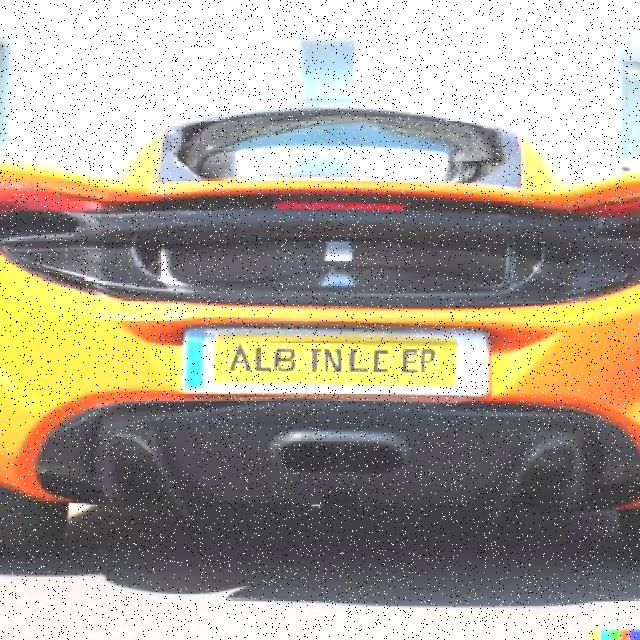licenseplate: (181, 326, 490, 397)
